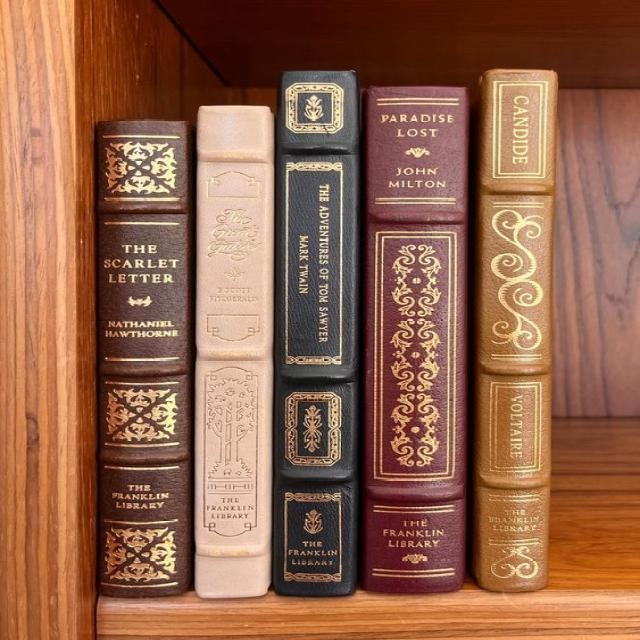book: (367, 88, 466, 594), (96, 122, 188, 595), (276, 70, 357, 595), (479, 69, 559, 591), (197, 107, 270, 596)
